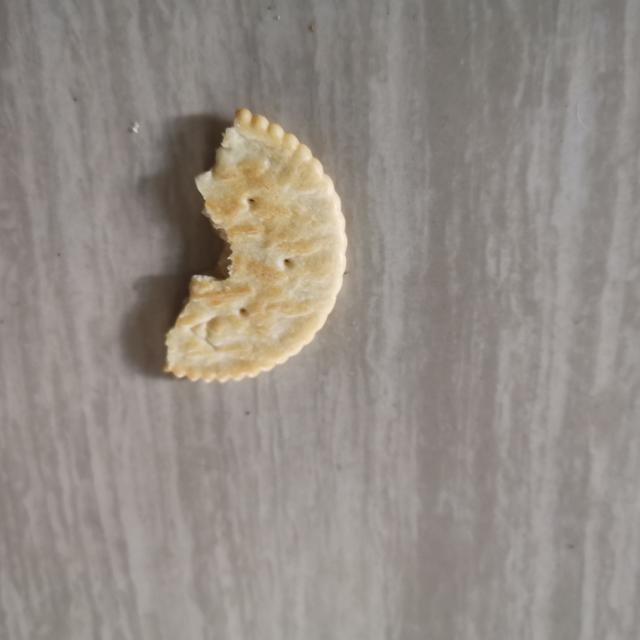Broken: (162, 106, 348, 383)
